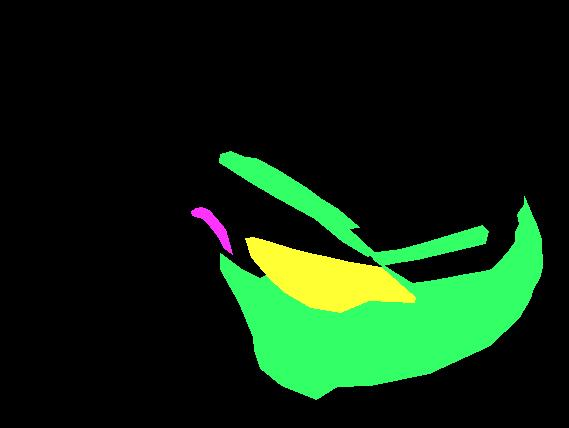Broken part: (220, 196, 542, 399), (219, 151, 375, 256), (369, 225, 488, 265)
Cracked: (245, 237, 415, 312)
Dent: (191, 207, 232, 254), (480, 286, 511, 314)
Scratch: (474, 278, 485, 319), (480, 295, 485, 310), (467, 289, 473, 296), (503, 290, 510, 296), (505, 295, 509, 304)
